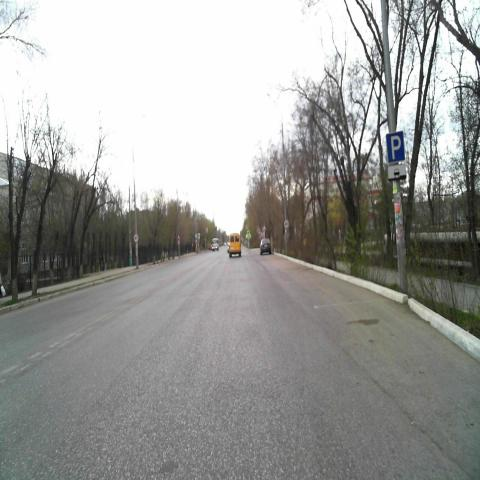6_4: (386, 130, 405, 162)
8_6_2: (387, 164, 406, 182)
